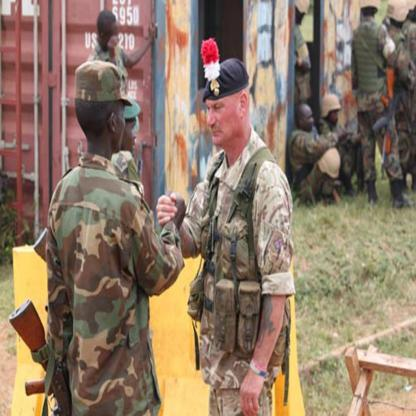face: (206, 93, 242, 145), (108, 106, 126, 153), (120, 120, 139, 157), (99, 24, 116, 49), (303, 110, 314, 132), (329, 106, 339, 125), (296, 7, 306, 24)
